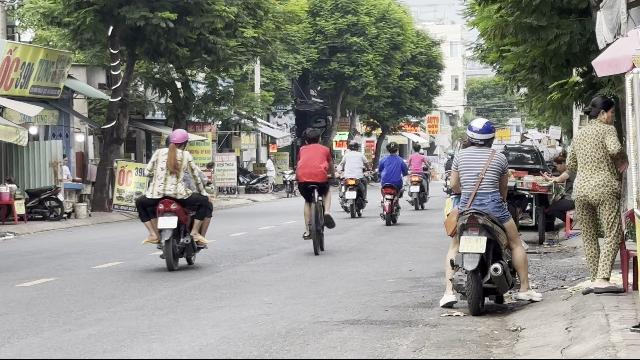helmet: (464, 117, 496, 146), (167, 129, 190, 149)
licenseplate: (459, 236, 487, 252), (157, 216, 177, 228)
motorcyclist: (438, 115, 534, 314), (136, 127, 212, 269)
